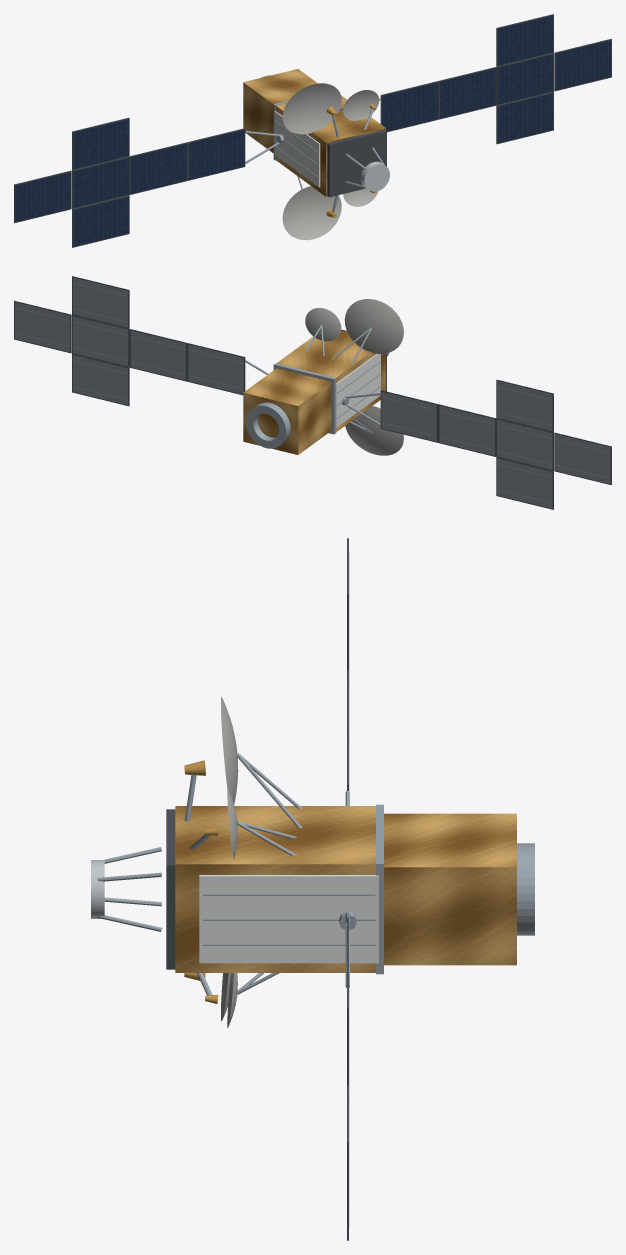
Rendered from ref-i6k-43824.glb.
3 renders of one model, top to bottom at view 1: azimuth 30°, elevation 25°; view 2: azimuth 150°, elevation 25°; view 3: azimuth 270°, elevation 25°, orthographic. The views are drawn at different scales.
Visible parts, largest first — view 1: Solar cell panel (×12), Communications reflector (×4), Service module, Earth-facing deck, Payload module, Radiator face, Solar panel frame (×3), Antenna tower platform; view 2: Rear array substrate (×12), Service module, Communications reflector (×3), Payload module, Radiator face, Solar panel frame (×4), Launch adapter ring, Module interface; view 3: Service module, Payload module, Radiator face, Launch adapter ring, Earth-facing deck, Communications reflector, Module interface.
Part boxes in pixels (left/top/right/bottom): Solar cell panel (×12): left=15, top=15, right=611, bottom=246; Communications reflector (×4): left=282, top=83, right=379, bottom=240; Service module: left=243, top=69, right=317, bottom=153; Earth-facing deck: left=327, top=129, right=386, bottom=197; Payload module: left=276, top=95, right=385, bottom=196; Radiator face: left=274, top=111, right=320, bottom=187; Solar panel frame (×3): left=129, top=67, right=496, bottom=194; Antenna tower platform: left=361, top=161, right=389, bottom=191; Rear array substrate (×12): left=14, top=277, right=610, bottom=508; Service module: left=243, top=368, right=331, bottom=454; Communications reflector (×3): left=305, top=299, right=403, bottom=455; Payload module: left=277, top=330, right=385, bottom=431; Radiator face: left=335, top=354, right=380, bottom=427; Solar panel frame (×4): left=129, top=329, right=496, bottom=456; Launch adapter ring: left=246, top=402, right=290, bottom=448; Module interface: left=273, top=363, right=336, bottom=434; Service module: left=384, top=813, right=516, bottom=965; Payload module: left=175, top=806, right=375, bottom=972; Radiator face: left=199, top=875, right=378, bottom=963; Launch adapter ring: left=517, top=843, right=534, bottom=935; Earth-facing deck: left=166, top=809, right=175, bottom=969; Communications reflector: left=221, top=697, right=238, bottom=804; Module interface: left=376, top=804, right=383, bottom=974.
Size of the model in its own units: 19.98 by 4.95 by 6.43.
9 materials, 2 textured.
